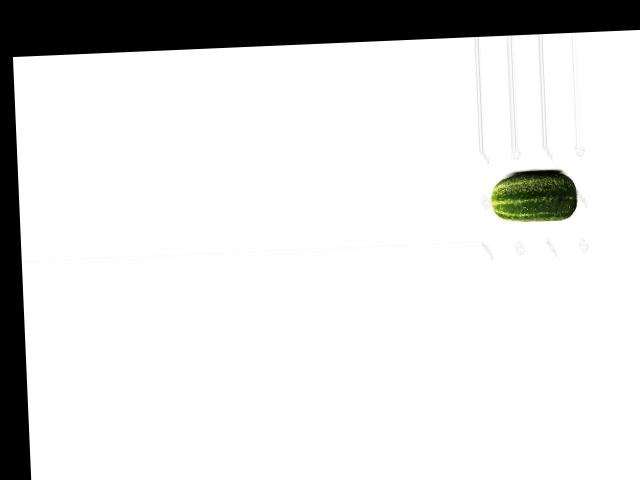cucumber: (491, 169, 579, 222)
